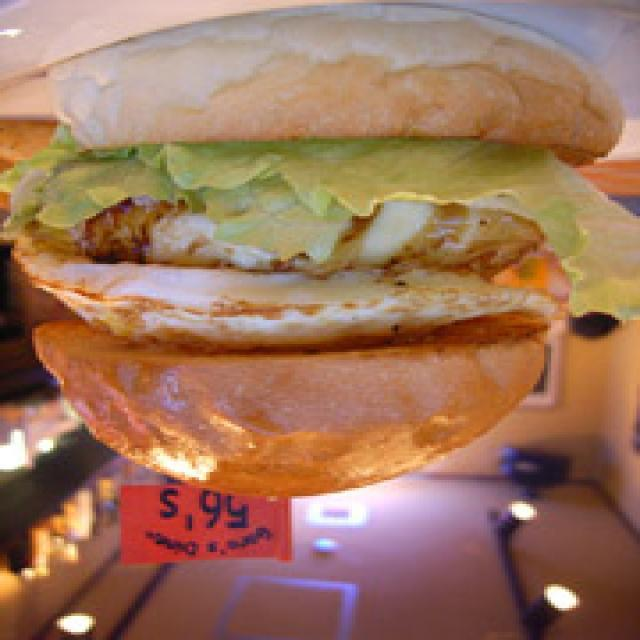Hamburger: (11, 13, 599, 496)
